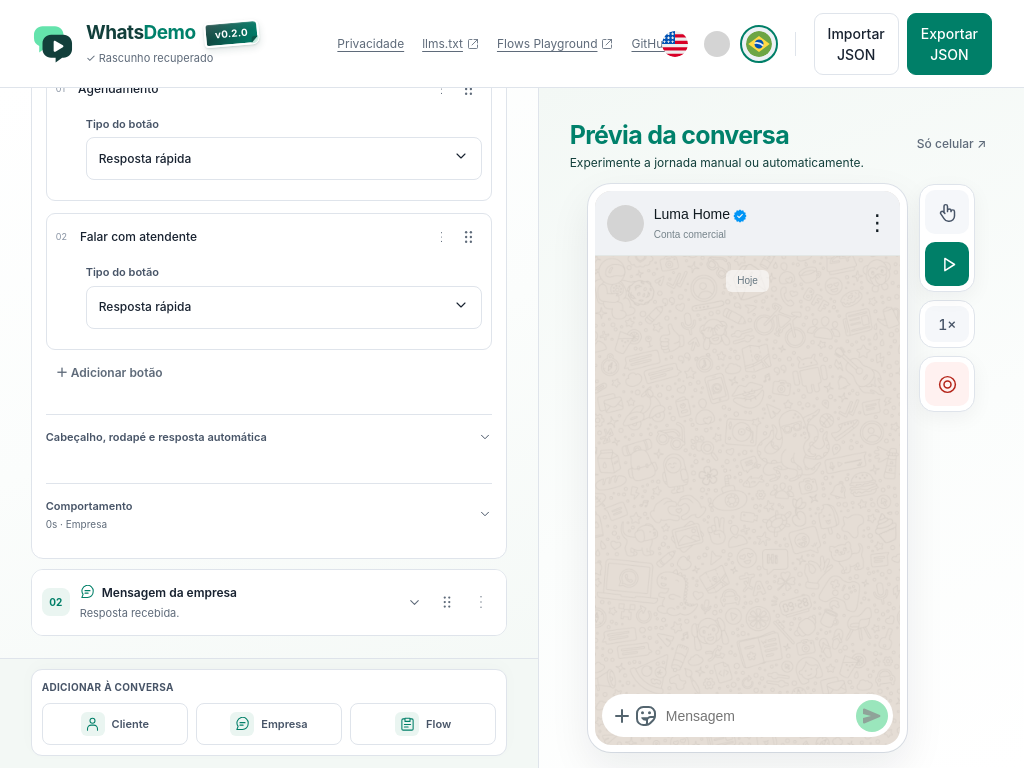
permite criar e editar botões pelo painel sem JSON e bloqueia opções inválidas
(page scrolled)
Click the button "＋ Adicionar botão" at {"x": 109, "y": 372}, box [46, 356, 173, 390]
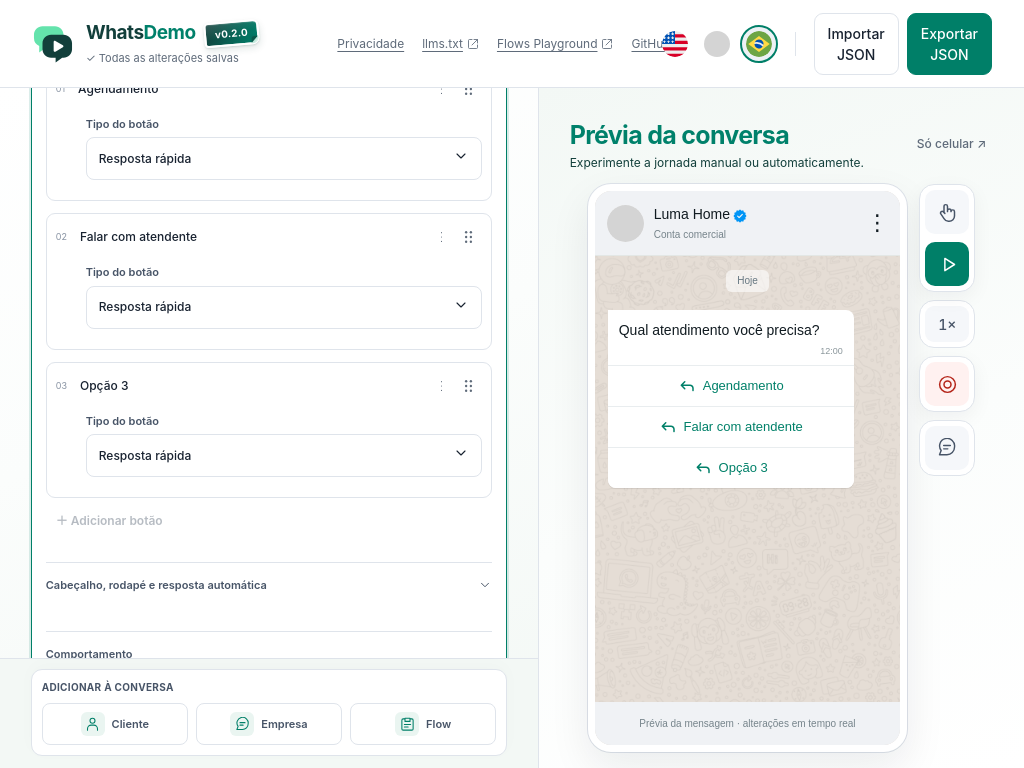
Expected: the button "＋ Adicionar botão" is disabled, [46, 504, 173, 538]
Clear the field named "Texto do botão" next to "01" at {"x": 247, "y": 88}, box [73, 74, 420, 104]
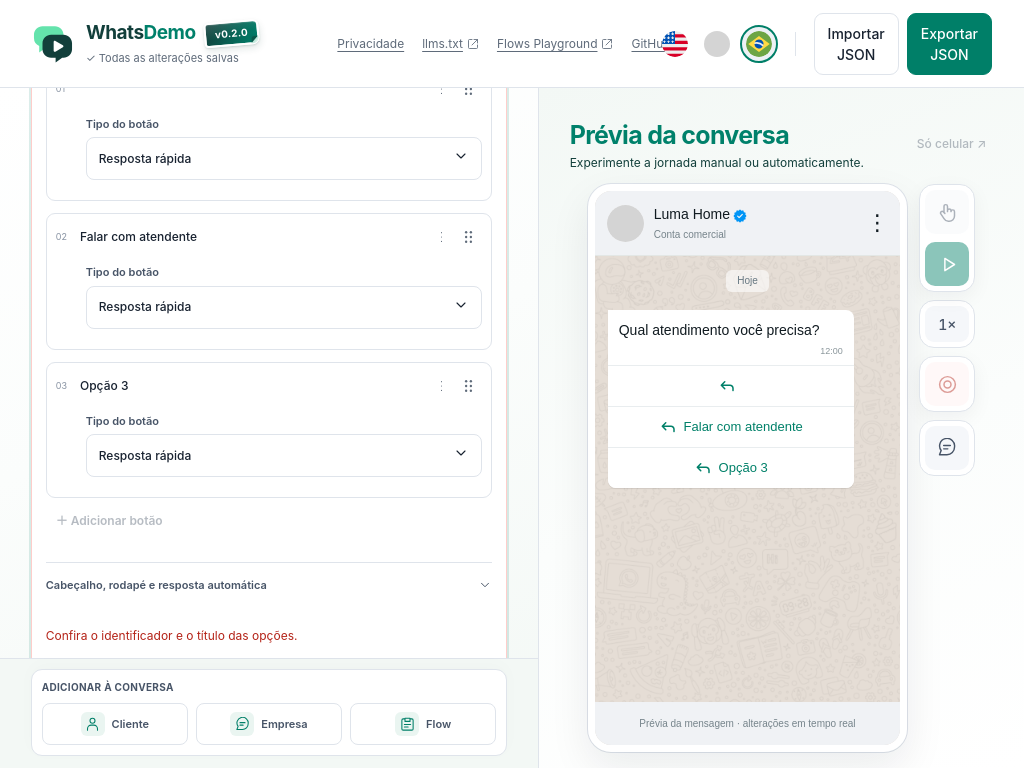
Expected: the button named "Iniciar manual" is disabled, [925, 190, 969, 234]
Type "Novo botão" into the field named "Texto do botão" next to "01" at {"x": 247, "y": 88}, box [73, 74, 420, 104]
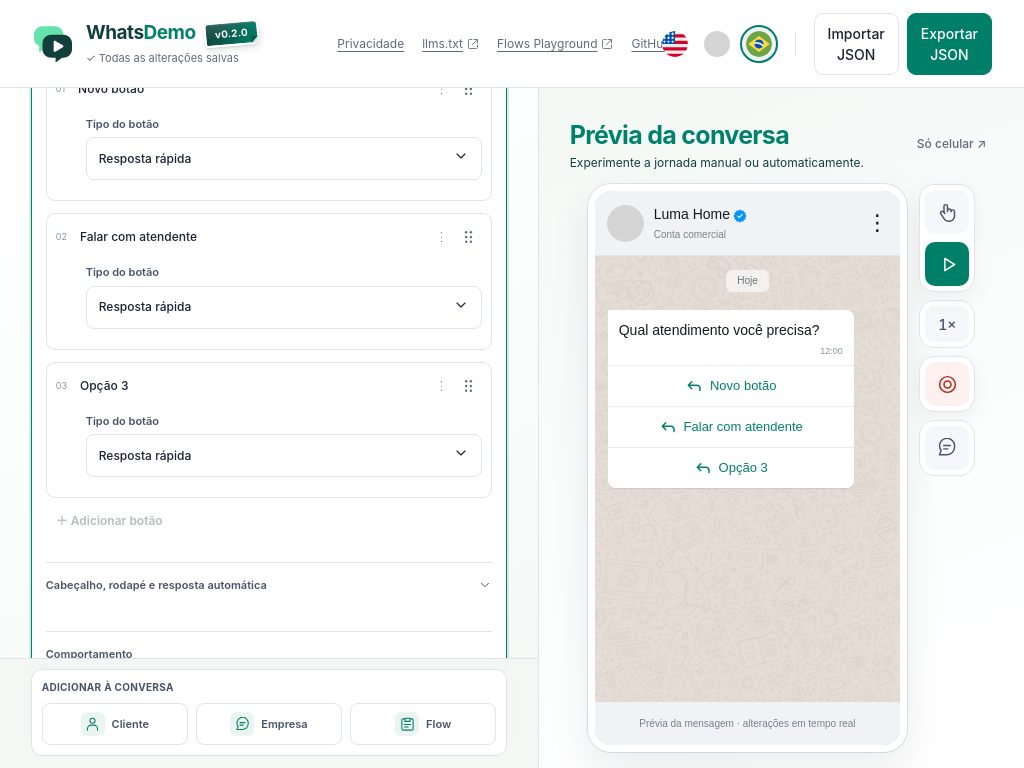
Expected: the button named "Iniciar manual" is enabled, [925, 190, 969, 234]
